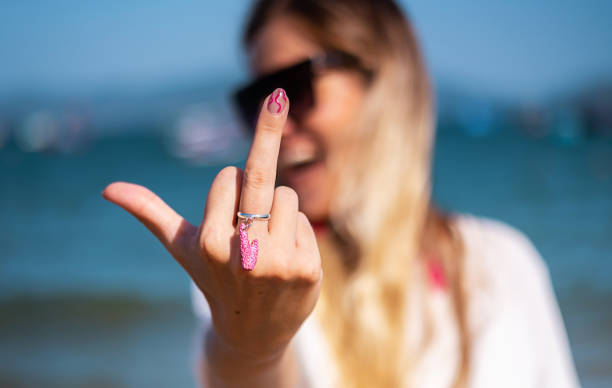insulting_gesture: (103, 86, 321, 351)
